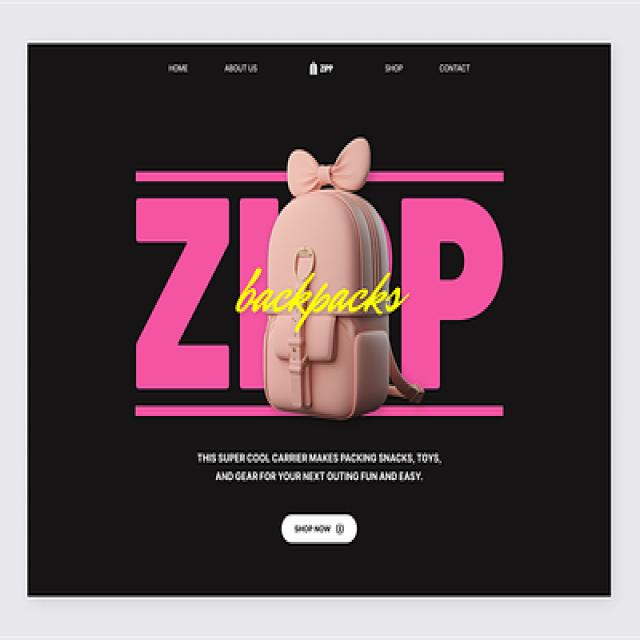backpack: (262, 138, 404, 422)
